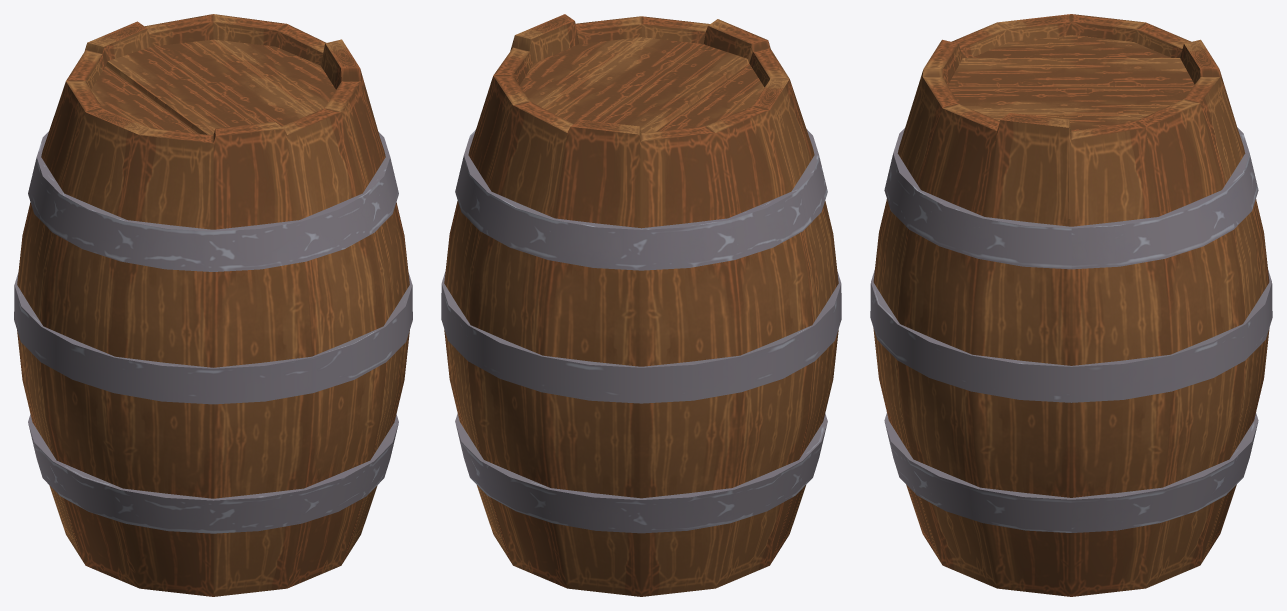
Rendered from Barrel.gltf.
3 views of the same model, side by side, from view 1: azimuth 30°, elevation 25°; view 2: azimuth 150°, elevation 25°; view 3: azimuth 270°, elevation 25° (orthographic).
Parts seen in each view (by area): view 1: Barrel; view 2: Barrel; view 3: Barrel.
Part boxes in pixels (x1,y1,x2,y2): Barrel: (14,14,412,596); Barrel: (441,14,841,596); Barrel: (870,14,1272,596).
Size of the model in its own units: 0.698 by 0.898 by 0.698.
2 materials, 2 textured.
